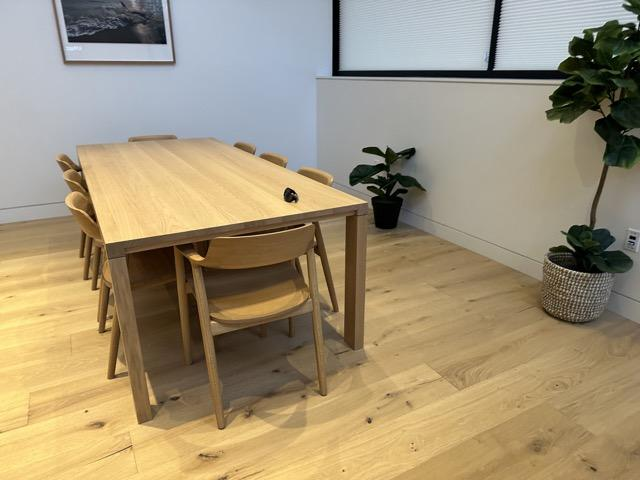Sunglasses: (283, 185, 299, 204)
